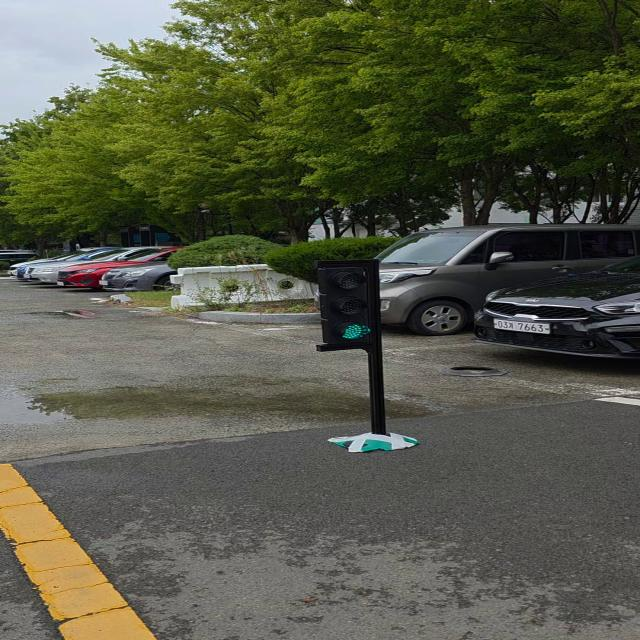green: (320, 256, 385, 350)
